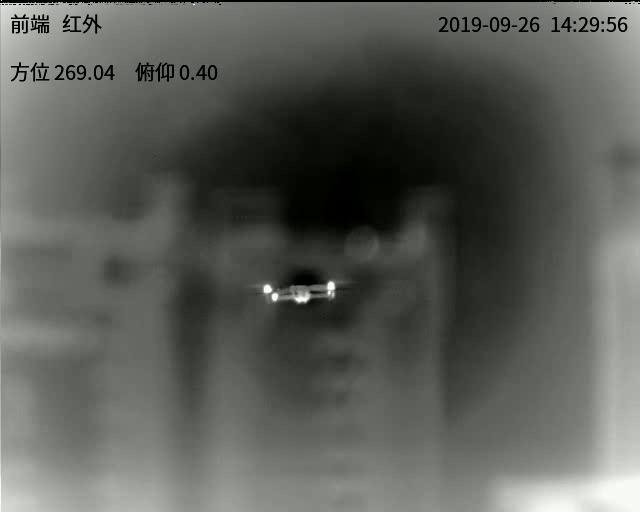DRONE: (263, 280, 338, 304)
